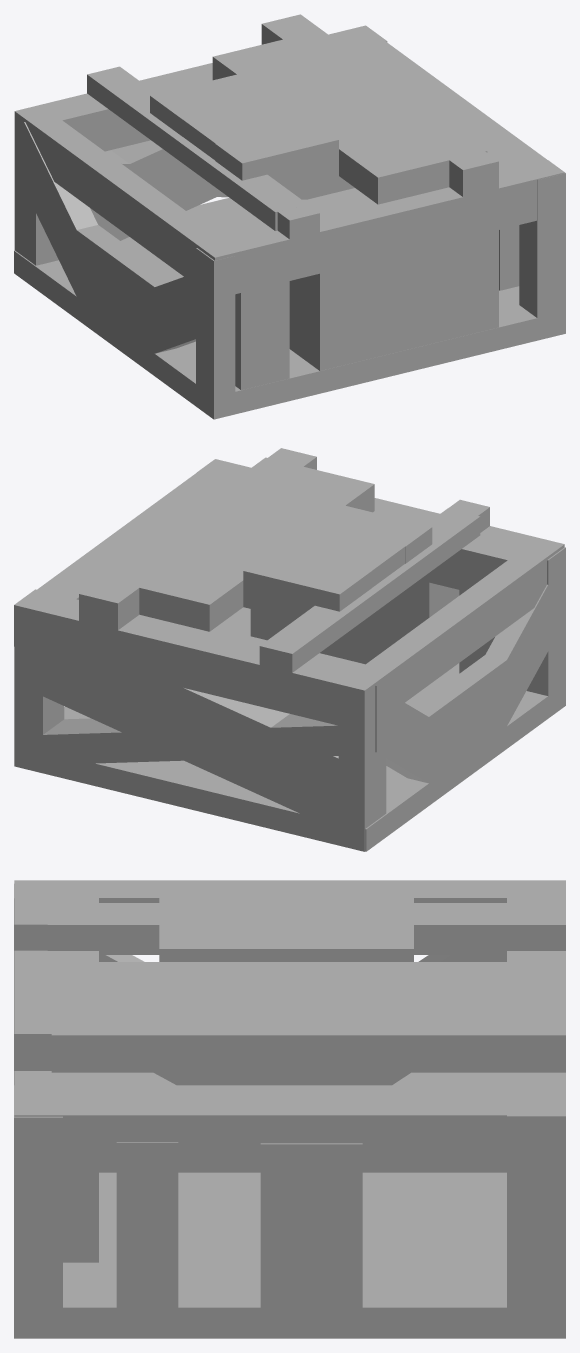
File: JumpDriveCharger_Large_Constr3.fbx
3 views of the same model, one above another, from view 1: azimuth 30°, elevation 25°; view 2: azimuth 150°, elevation 25°; view 3: azimuth 270°, elevation 25° (orthographic). The views are drawn at different scales.
Parts seen in each view (by area): view 1: Cube.004; view 2: Cube.004; view 3: Cube.004.
Part boxes in pixels (x1,y1,x2,y2): Cube.004: (14,14,565,419); Cube.004: (14,448,565,851); Cube.004: (14,880,565,1338).
Bounding box in the file's own units: 2.49 × 1.34 × 2.46.
